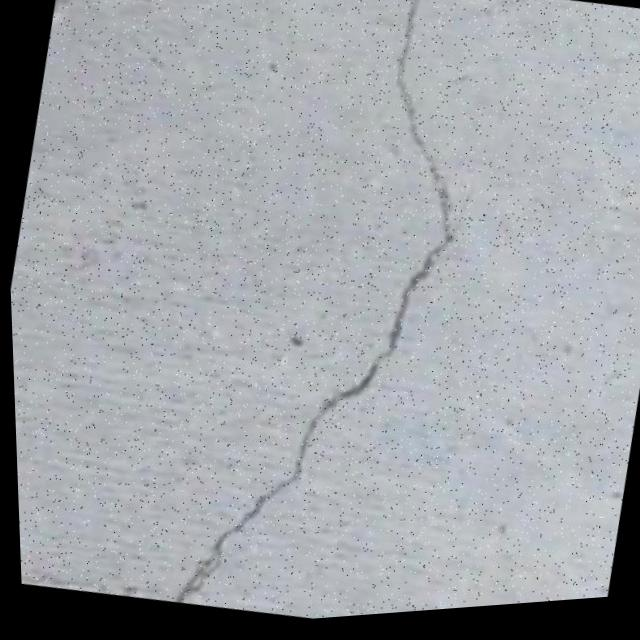Crack: (140, 0, 527, 632)
